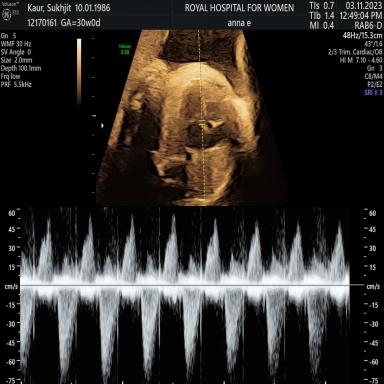Ultrasound-Waves: (26, 208, 350, 384)
